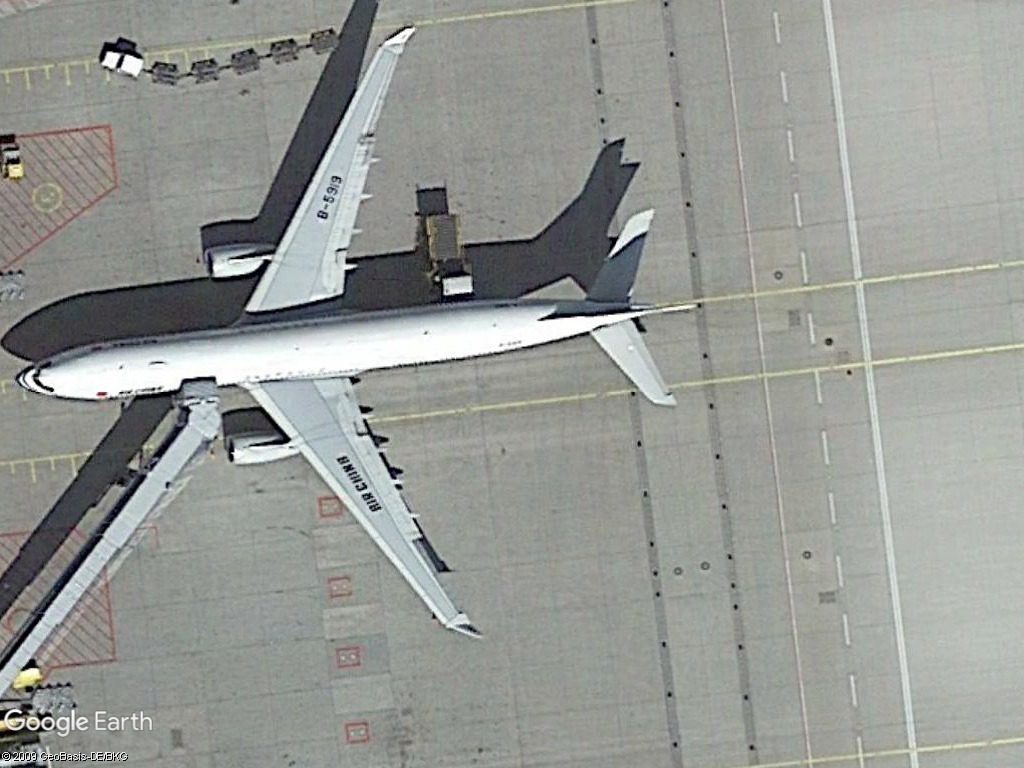airliner: (13, 24, 717, 639)
